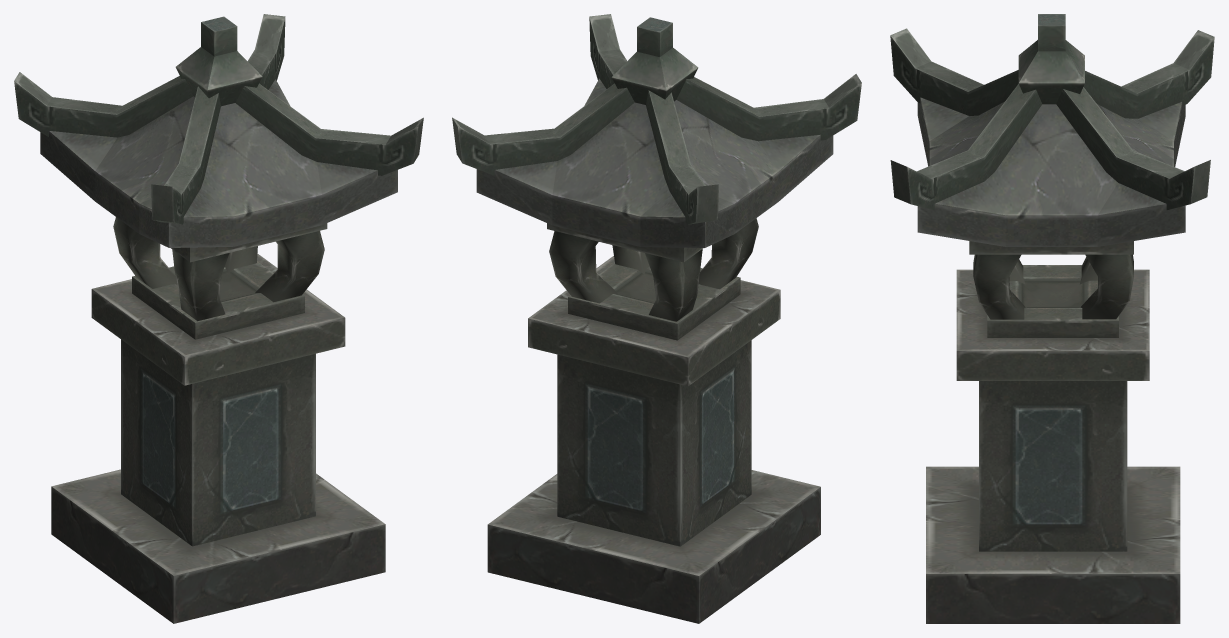
The model's file is deng_005.FBX.
The picture shows the model from 3 angles, left to right: view 1: azimuth 30°, elevation 25°; view 2: azimuth 150°, elevation 25°; view 3: azimuth 270°, elevation 25°; orthographic projection. The views are drawn at different scales.
Visible parts, largest first — view 1: deng_005_a01; view 2: deng_005_a01; view 3: deng_005_a01.
Boxes of the visible parts, x1=… form: deng_005_a01: x1=14, y1=14, x2=423, y2=623; deng_005_a01: x1=452, y1=14, x2=861, y2=623; deng_005_a01: x1=890, y1=14, x2=1214, y2=623.
Size of the model in its own units: 161 by 298 by 159.
Materials: 1 (1 with a texture image).
